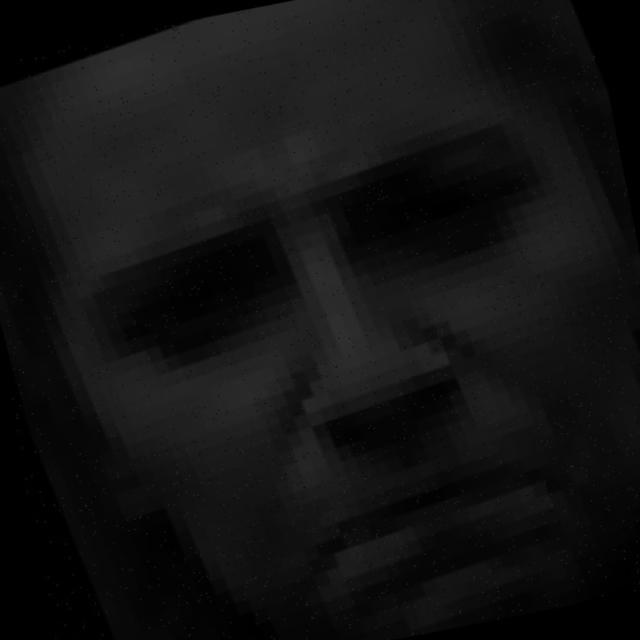Disgust: (60, 96, 629, 640)
